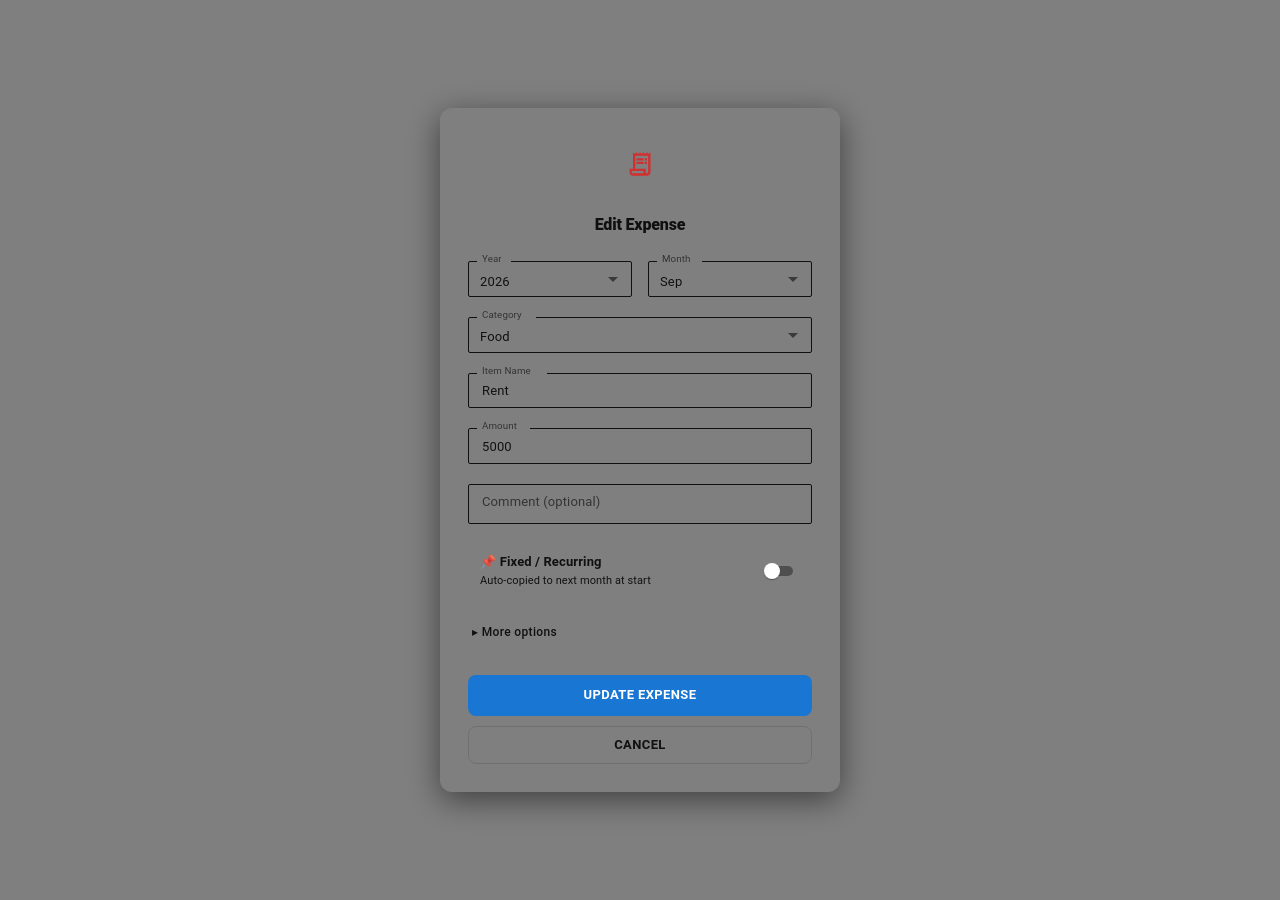
Test: AddExpenseModal amount expressions › says so when the field cannot be read, rather than saving zero
Replace the text in the field labelled "Amount" with "12abc": x=640, y=446 [468,428,812,464]
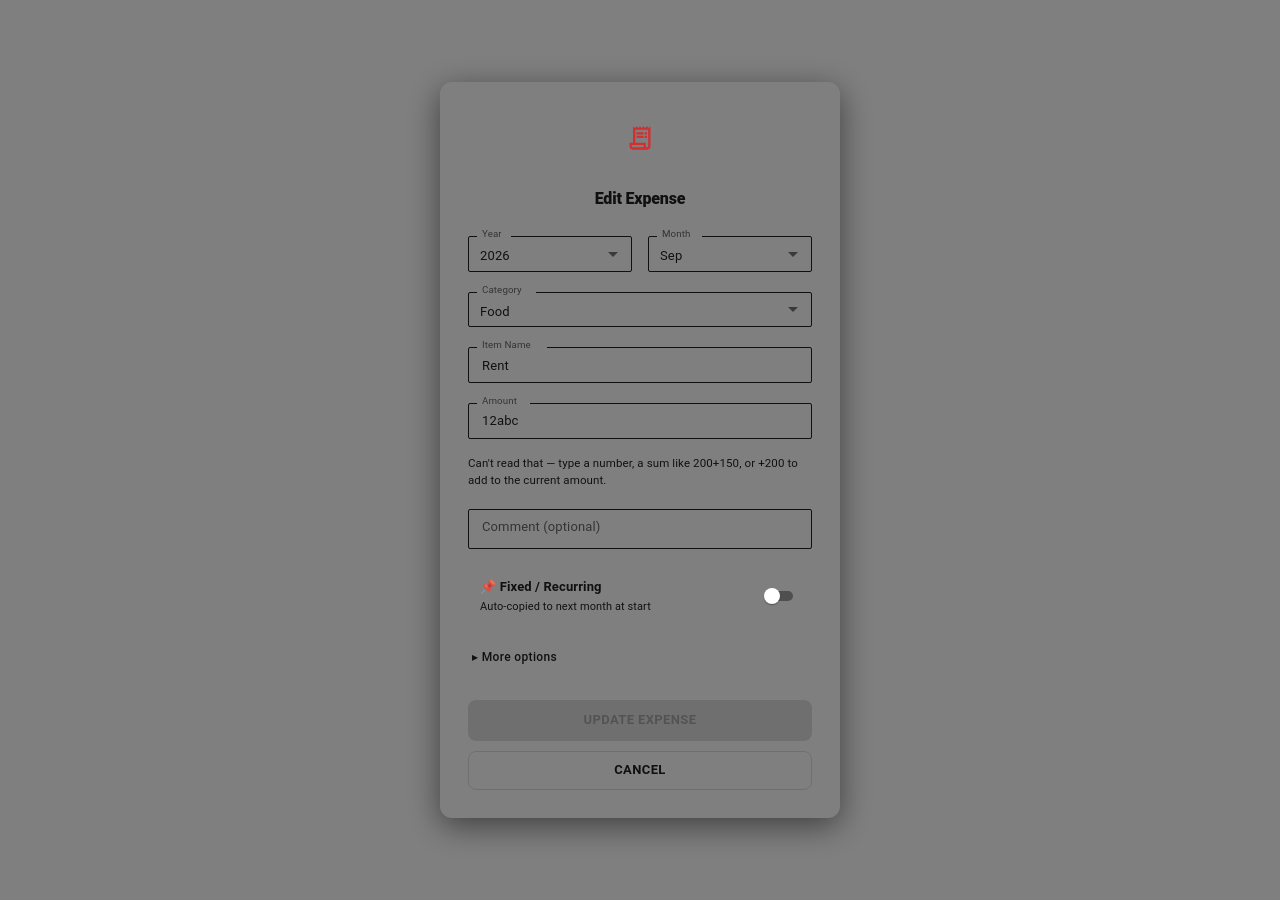
Expected: the text "Can't read that" is shown, [468,456,798,487]
